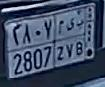0: (34, 28, 42, 69)
2: (12, 23, 23, 75)
7: (43, 19, 52, 67)
8: (23, 23, 33, 73)
B: (75, 18, 85, 57)
V: (65, 16, 74, 59)
Z: (56, 17, 65, 61)
